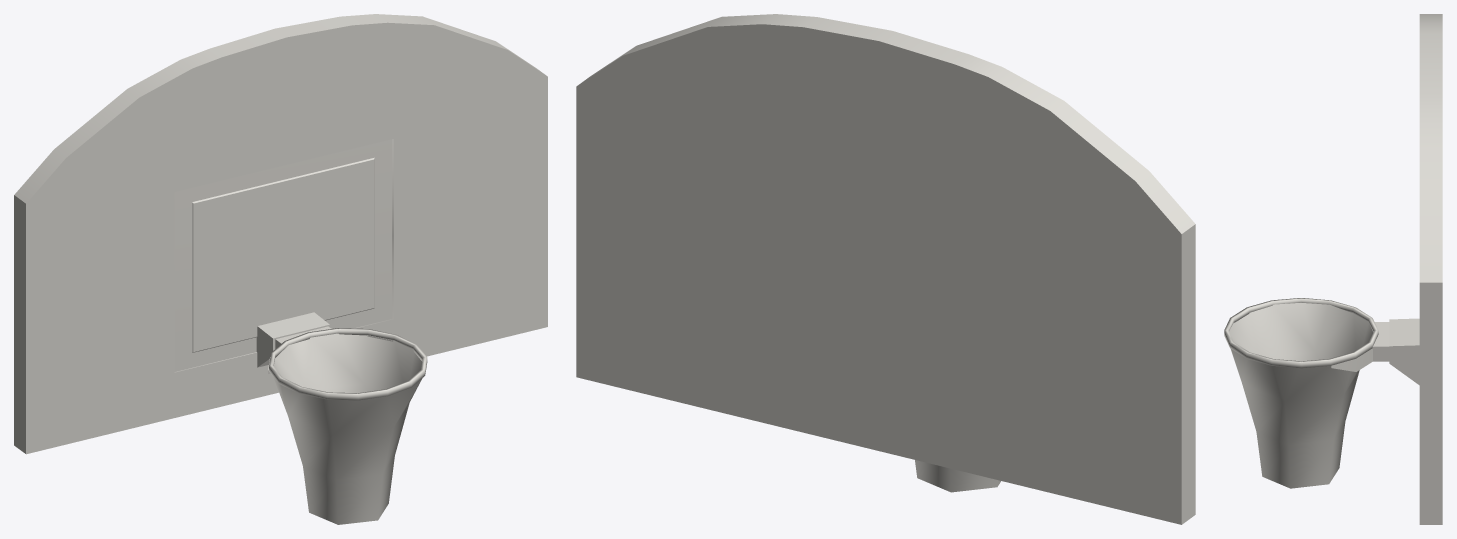
File: hoop2.glb
The picture shows the model from 3 angles, left to right: view 1: azimuth 30°, elevation 25°; view 2: azimuth 150°, elevation 25°; view 3: azimuth 270°, elevation 25°; orthographic projection. The views are drawn at different scales.
Visible parts, largest first — view 1: node_id52, node_id50, node_id54; view 2: node_id52, node_id50; view 3: node_id50, node_id52, node_id54.
Boxes of the visible parts, <box> form: node_id52: <box>14,14,547,454</box>; node_id50: <box>174,139,422,524</box>; node_id54: <box>256,312,427,400</box>; node_id52: <box>576,14,1195,524</box>; node_id50: <box>915,460,1000,492</box>; node_id50: <box>1229,303,1373,488</box>; node_id52: <box>1419,14,1442,524</box>; node_id54: <box>1224,298,1419,385</box>.
Bounding box in the file's own units: 0.512 × 0.3995 × 0.1922.
3 materials, 3 textured.
